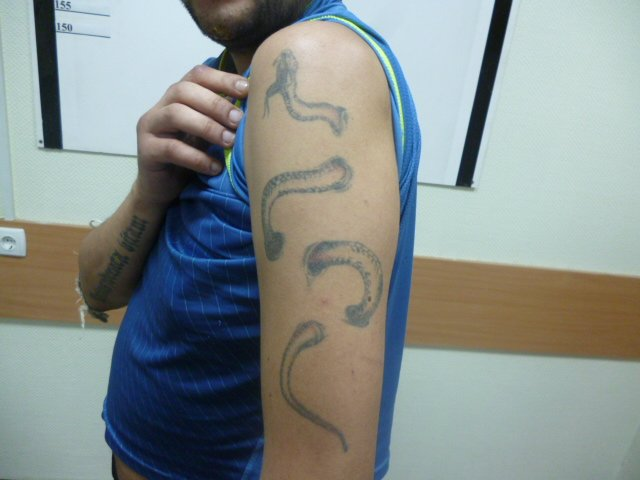tatu7_zmeya: (238, 43, 374, 463)
